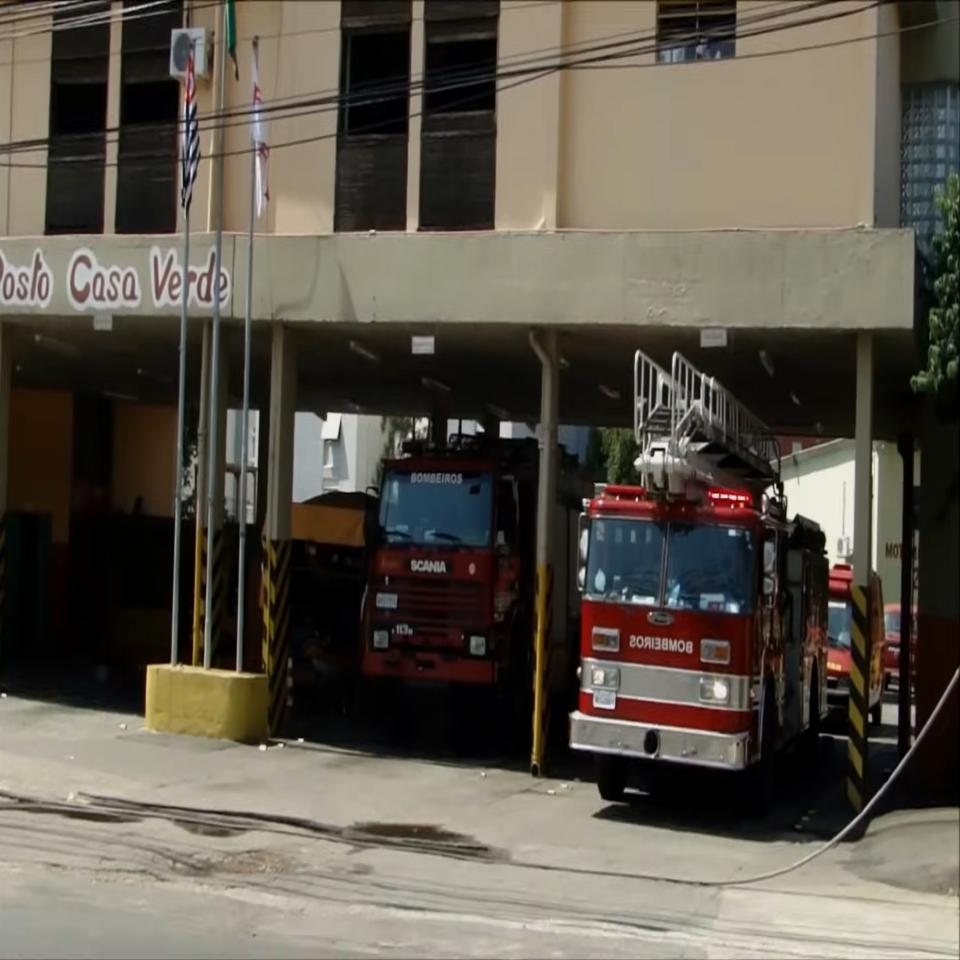bombeiro: (567, 352, 829, 821), (356, 414, 530, 737)
